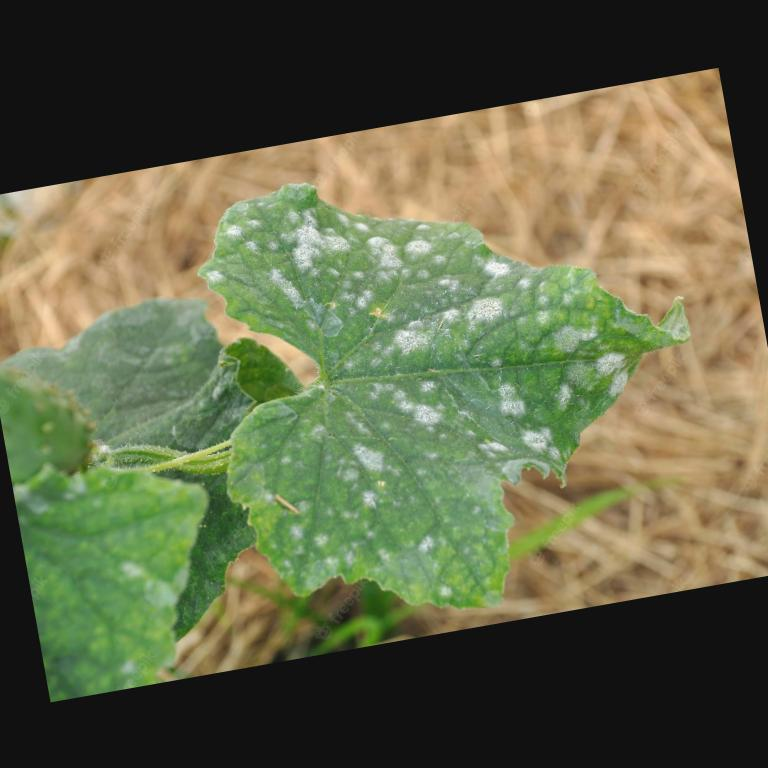powdery-mildew: (340, 240, 498, 380), (361, 365, 518, 478), (514, 272, 616, 410)
